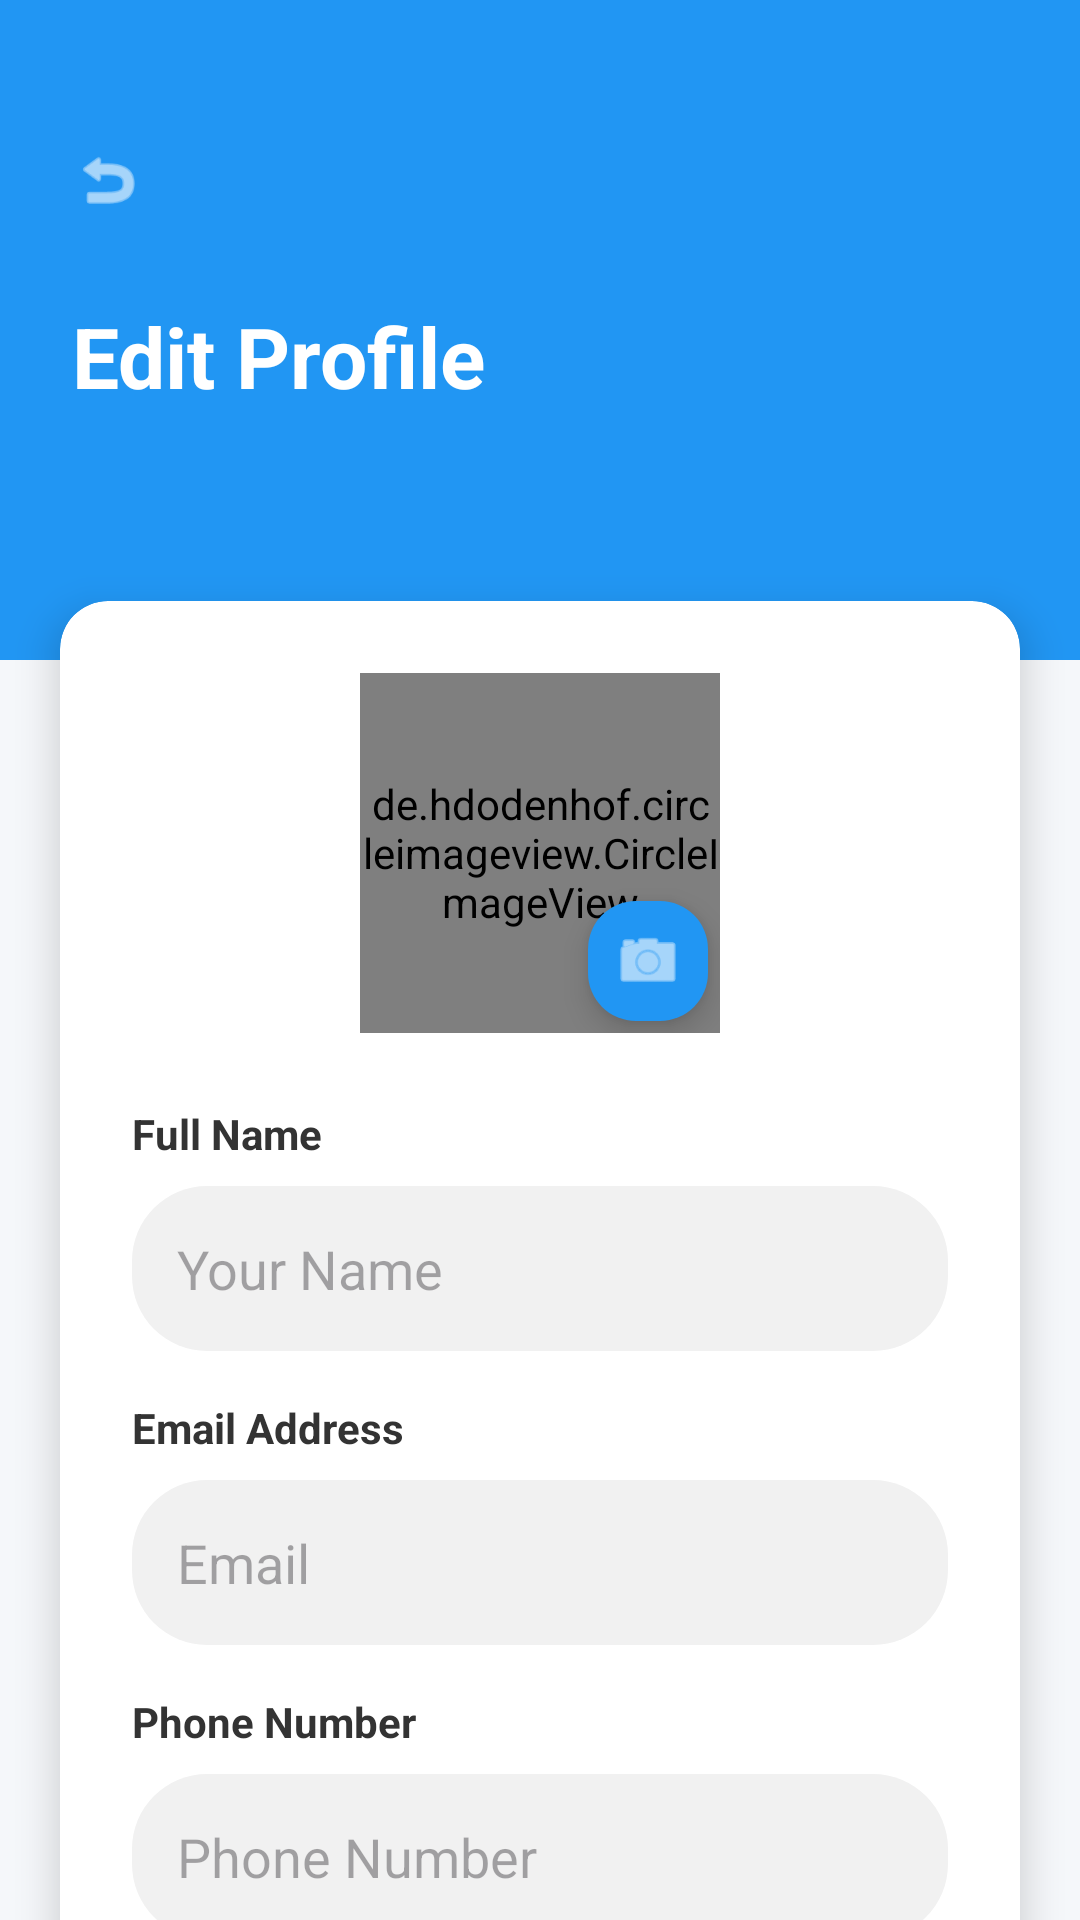

Icon bounding boxes for this 1080px×1920px phone screenshot, format (x1, y1, x2, y2):
camera: (578, 889, 708, 1021)
revert: (83, 157, 135, 204)
